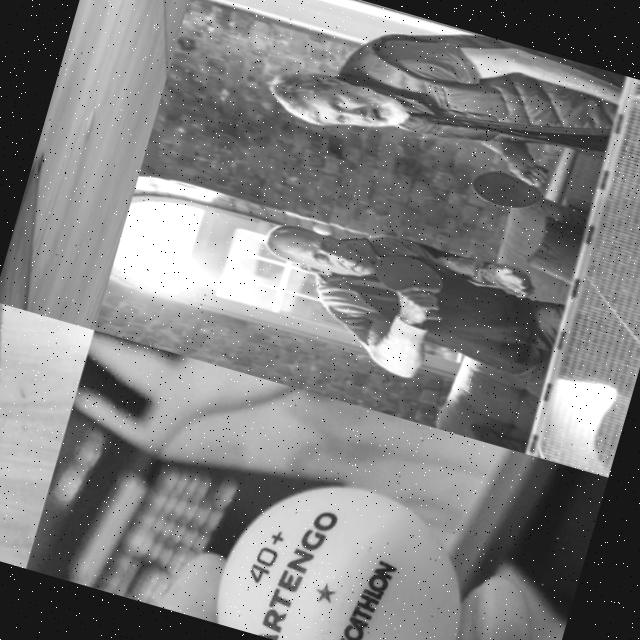ping-pong-ball: (207, 459, 485, 640), (81, 103, 97, 141), (312, 222, 333, 236)
